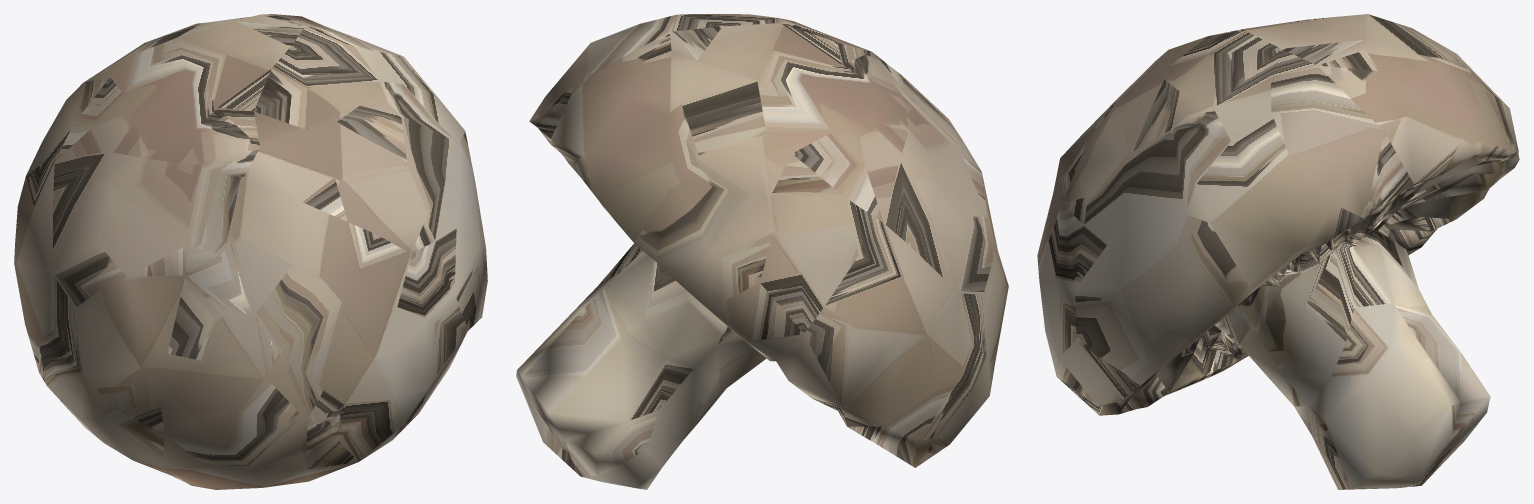
Rendered from mushroom.glb.
3 views of the same model, side by side, from view 1: azimuth 30°, elevation 25°; view 2: azimuth 150°, elevation 25°; view 3: azimuth 270°, elevation 25° (orthographic). The views are drawn at different scales.
Visible parts, largest first — view 1: tripo_node_deac0132-1537-418c-b2ee-4dc36a084a23; view 2: tripo_node_deac0132-1537-418c-b2ee-4dc36a084a23; view 3: tripo_node_deac0132-1537-418c-b2ee-4dc36a084a23.
Boxes of the visible parts, x1,y1,x2,y2 form: tripo_node_deac0132-1537-418c-b2ee-4dc36a084a23: (14, 14, 487, 489); tripo_node_deac0132-1537-418c-b2ee-4dc36a084a23: (516, 14, 1008, 489); tripo_node_deac0132-1537-418c-b2ee-4dc36a084a23: (1037, 14, 1519, 489).
Bounding box in the file's own units: 0.9945 × 0.9482 × 0.9833.
Materials: 1 (1 with a texture image).
